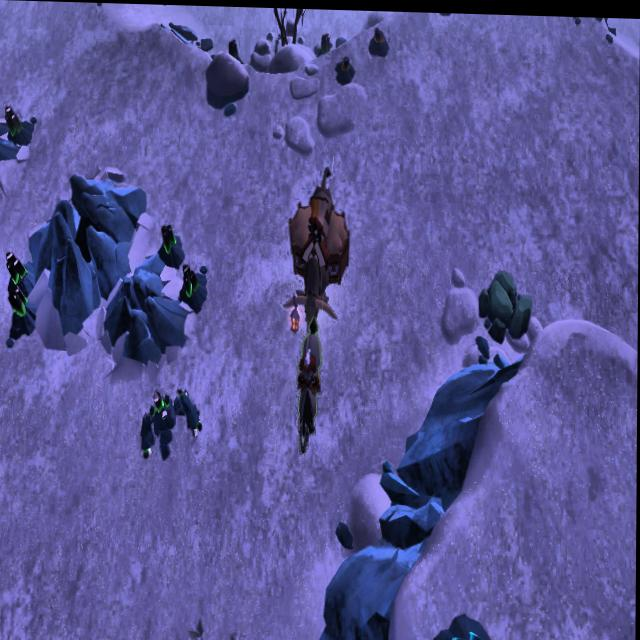ore_t3: (181, 257, 201, 300), (8, 278, 26, 323), (4, 105, 25, 143), (6, 250, 26, 281), (161, 221, 178, 256), (320, 26, 331, 57), (228, 35, 240, 62)
ore_t4: (452, 624, 494, 640)
rock_t3: (469, 266, 539, 340)
